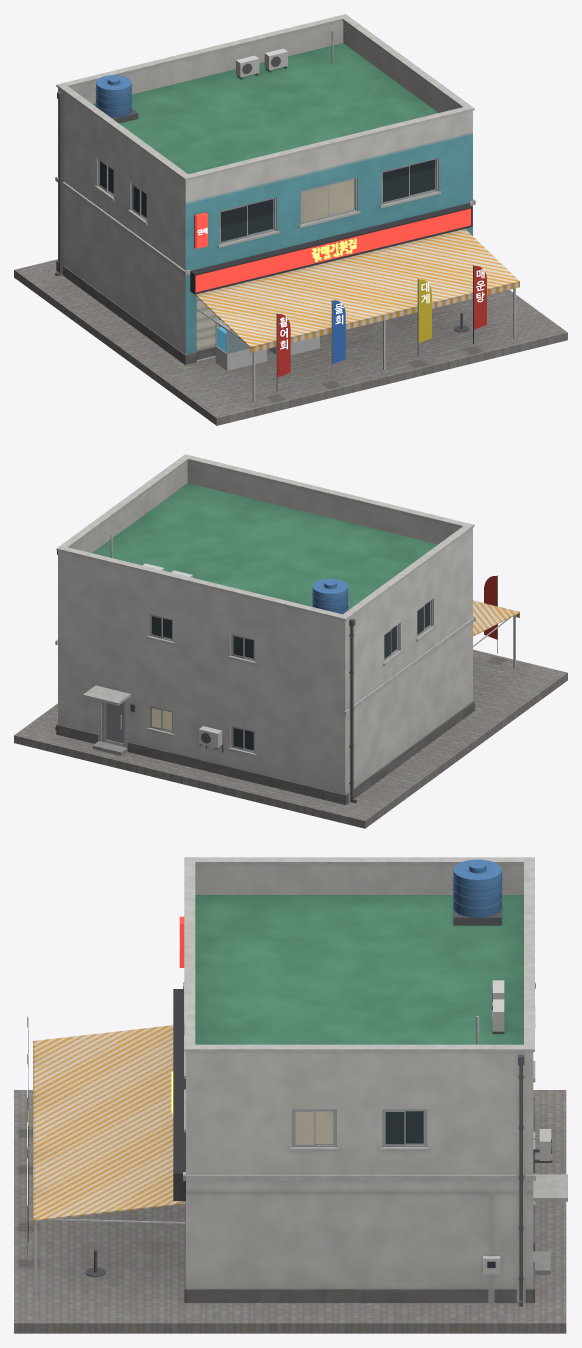
The model's file is IlsanHoetjip03_LOD1.fbx.
3 renders of one model, top to bottom at view 1: azimuth 30°, elevation 25°; view 2: azimuth 150°, elevation 25°; view 3: azimuth 270°, elevation 25°, orthographic. The views are drawn at different scales.
Parts seen in each view (by area): view 1: IlsanHoetjip03_LOD1; view 2: IlsanHoetjip03_LOD1; view 3: IlsanHoetjip03_LOD1.
Boxes of the visible parts, bbox=[...] form: IlsanHoetjip03_LOD1: bbox=[14, 14, 567, 425]; IlsanHoetjip03_LOD1: bbox=[14, 454, 567, 828]; IlsanHoetjip03_LOD1: bbox=[14, 857, 567, 1333].
Size of the model in its own units: 15.9 by 8.9 by 15.95.
1 material, 1 textured.
